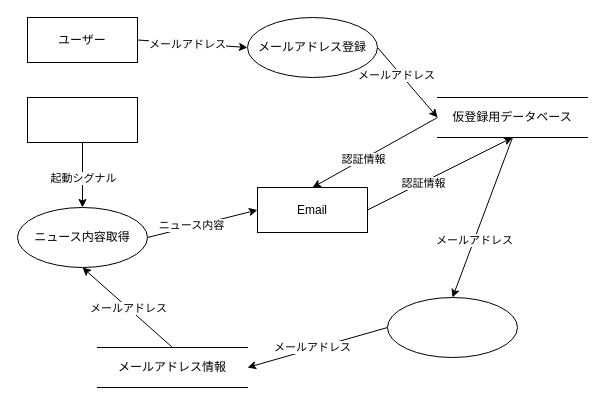
This 605x405 diagram has some shape labels left out. The centre of each missing label's shape, as x and y in pixels:
メール認証: the point at 452,327
定時起動システム: the point at 82,119
